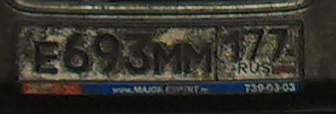character: (122, 28, 152, 77), (64, 28, 92, 73), (94, 29, 121, 75), (153, 40, 184, 79), (32, 37, 61, 77), (183, 41, 213, 77), (242, 27, 265, 64), (266, 27, 288, 64), (223, 27, 242, 64)
